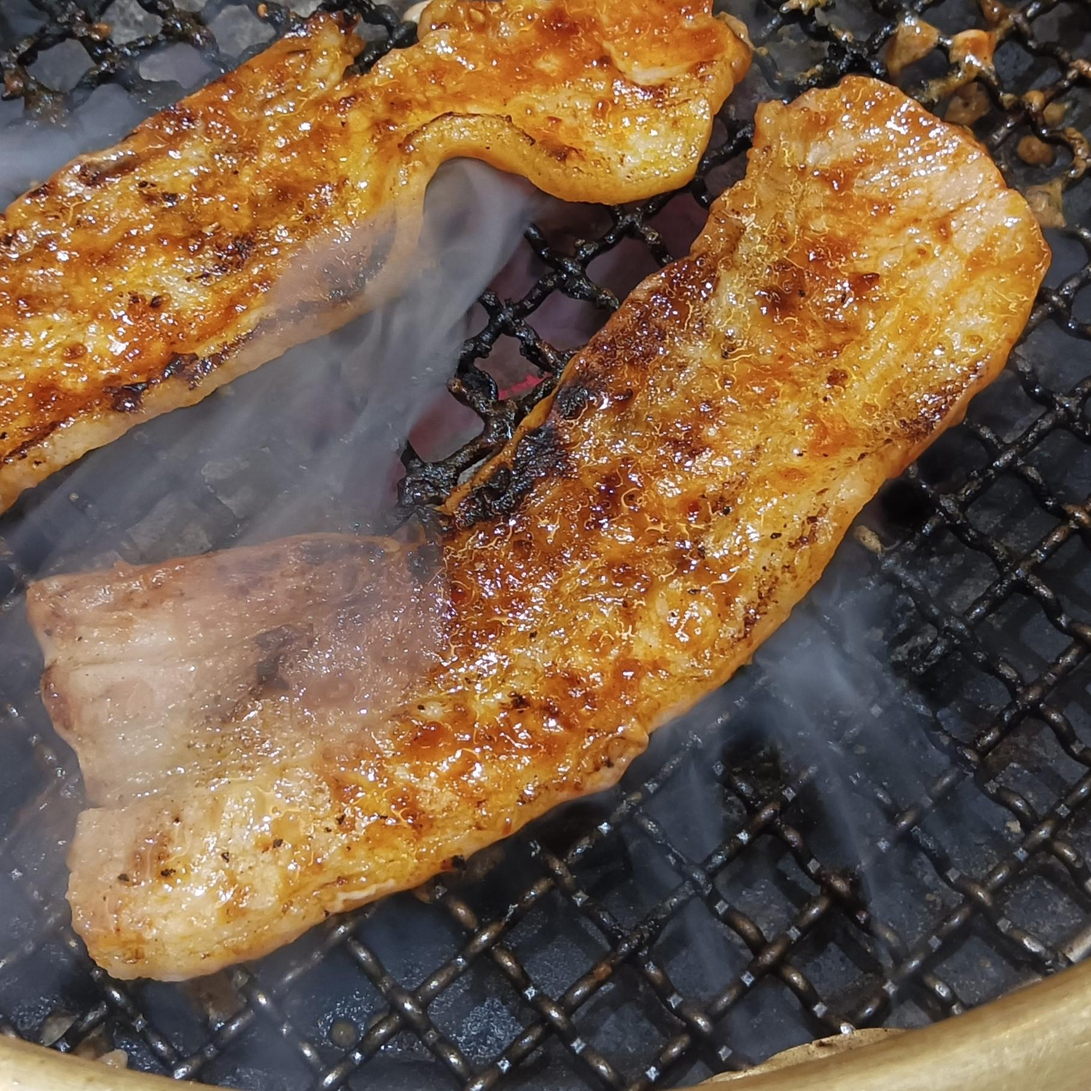Overcooked: (29, 77, 1046, 980), (0, 0, 752, 511)
